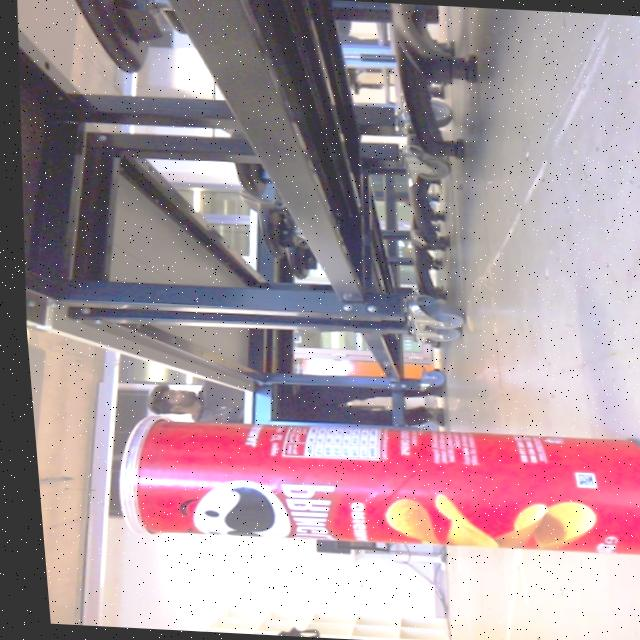redpringles: (76, 385, 640, 586)
